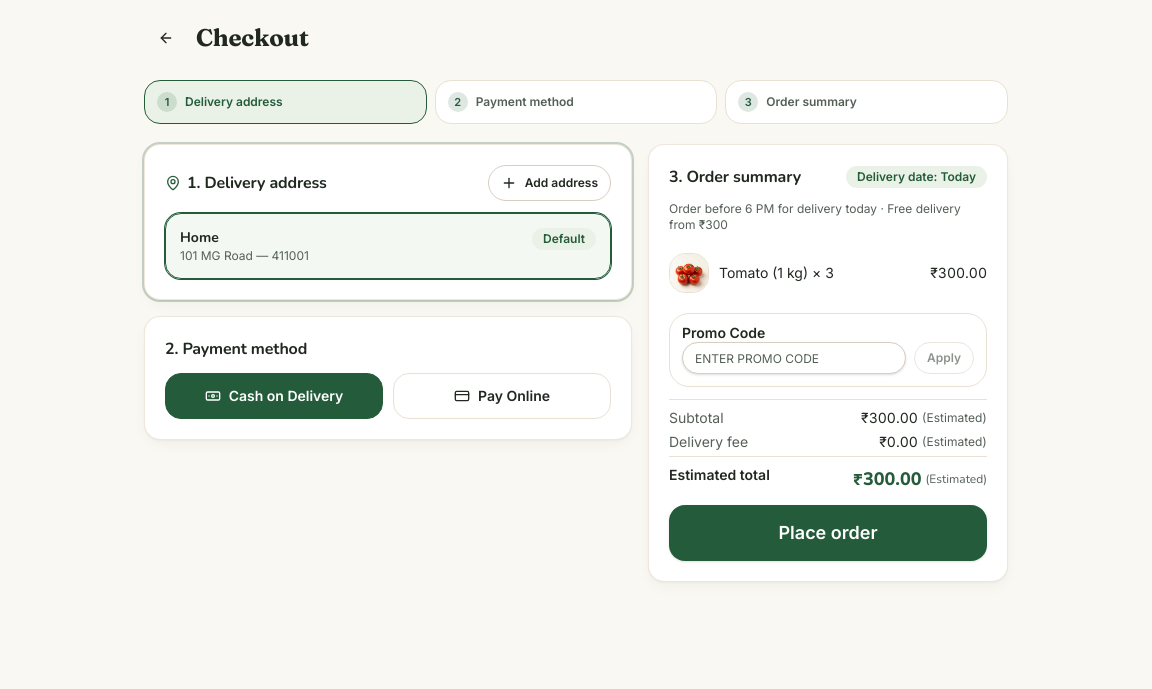
Scenario: Customer Journey QA Stage 3 — Payments (COD & Razorpay) › selects ONLINE payment at checkout for ₹150, ₹300, and >₹300 orders and creates PENDING_PAYMENT order
Expected: the text "Home" is shown, x1=180 y1=228 x2=219 y2=247
Expected: the text "₹0.00" is shown, x1=879 y1=432 x2=918 y2=452
Click the radio button labelled "Pay Online": (502, 396) x1=393 y1=373 x2=611 y2=419
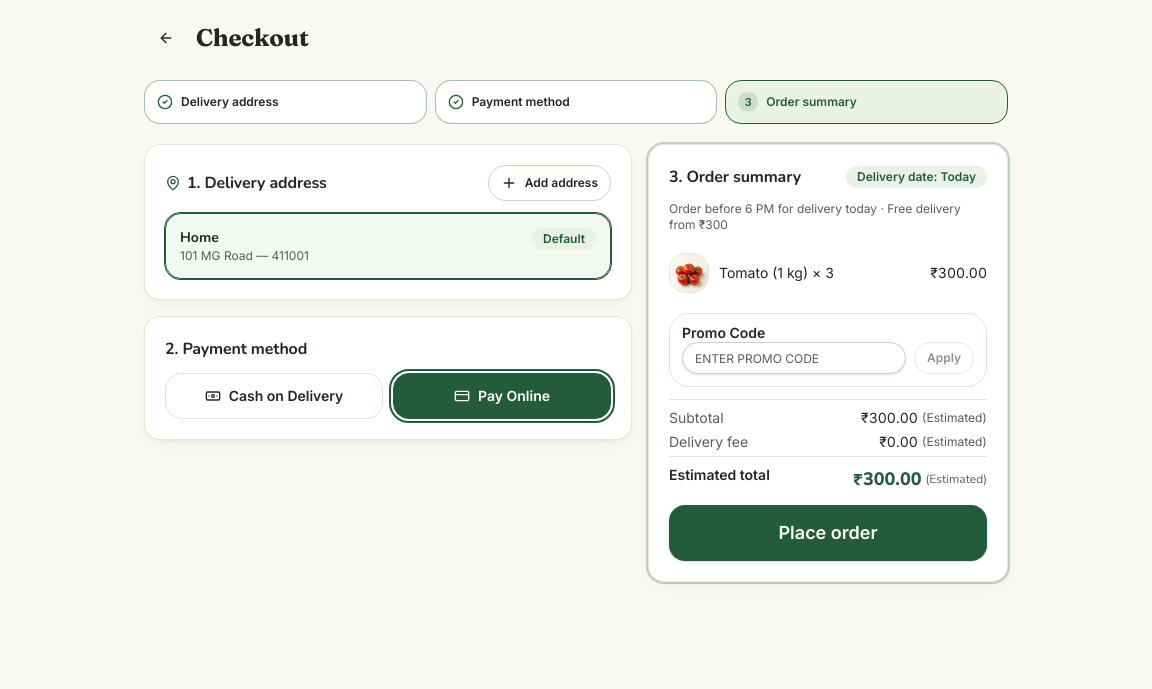
Click the button "Place order": (828, 533) x1=669 y1=505 x2=987 y2=561
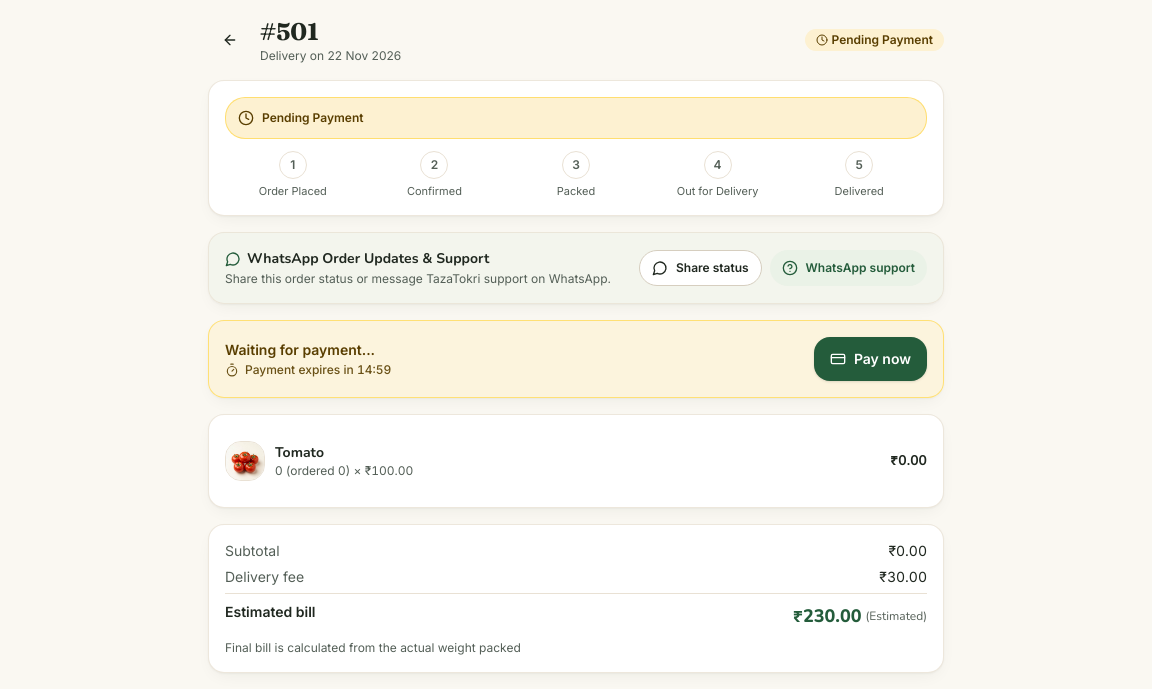
Result: the button "Pay now" is shown at x1=814 y1=337 x2=927 y2=381
